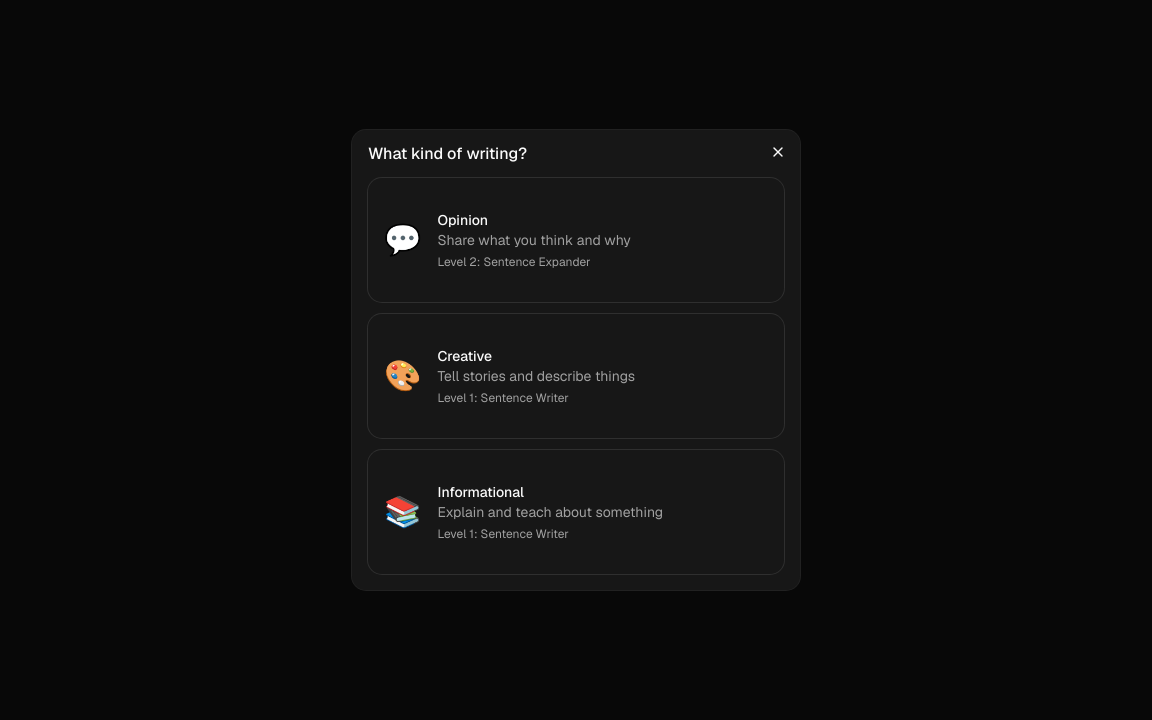
Test case: NewEssayDialog › Back button returns to the type step
Click the text "Opinion".
click(463, 220)  # box [437, 211, 488, 229]
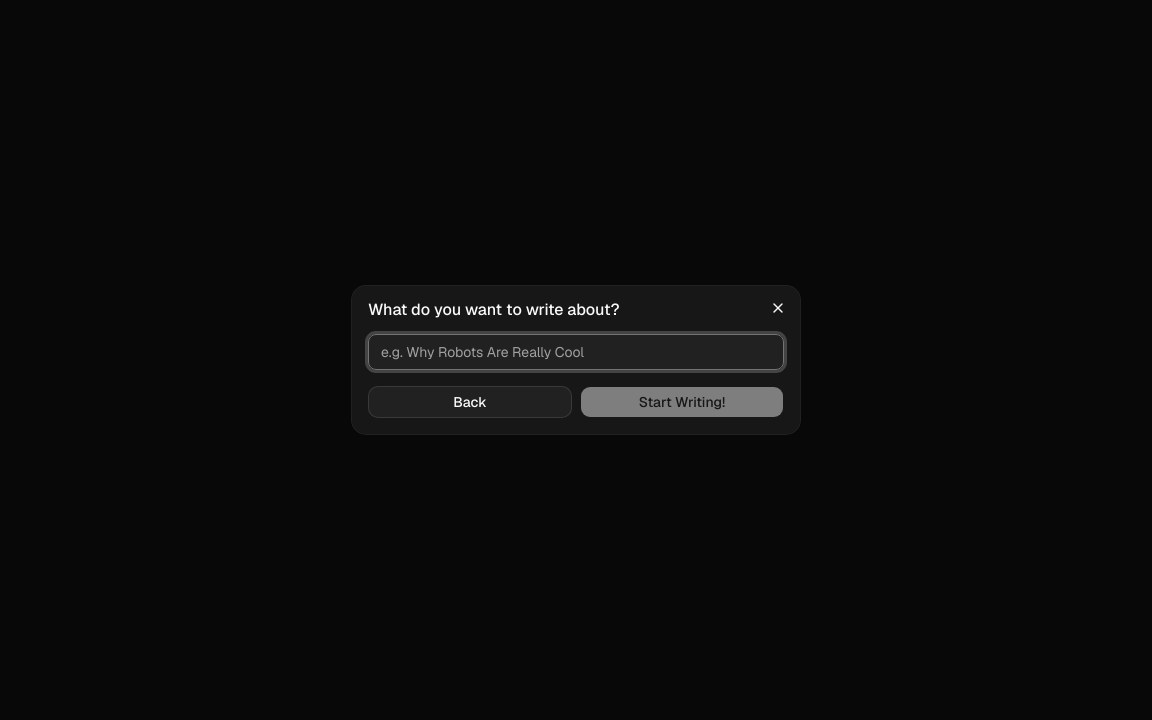
Click the button "Back".
click(470, 402)  # box [368, 386, 572, 418]
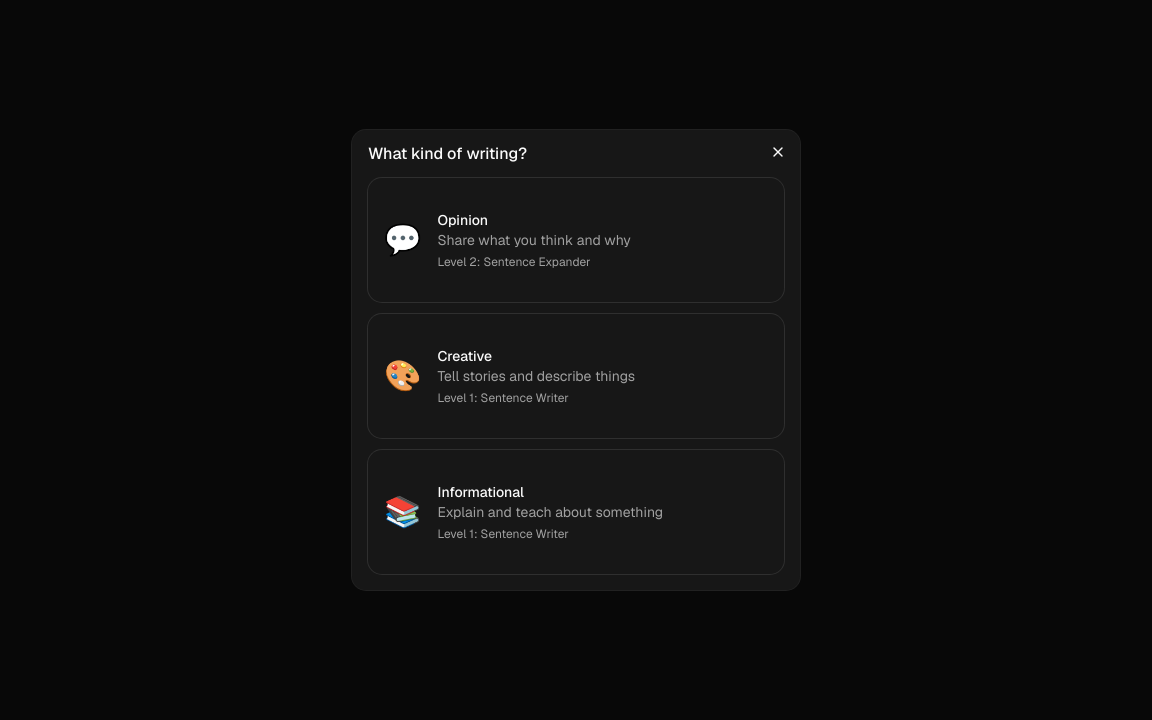
Result: the heading "What kind of writing?" is shown at [368, 143, 527, 164]
